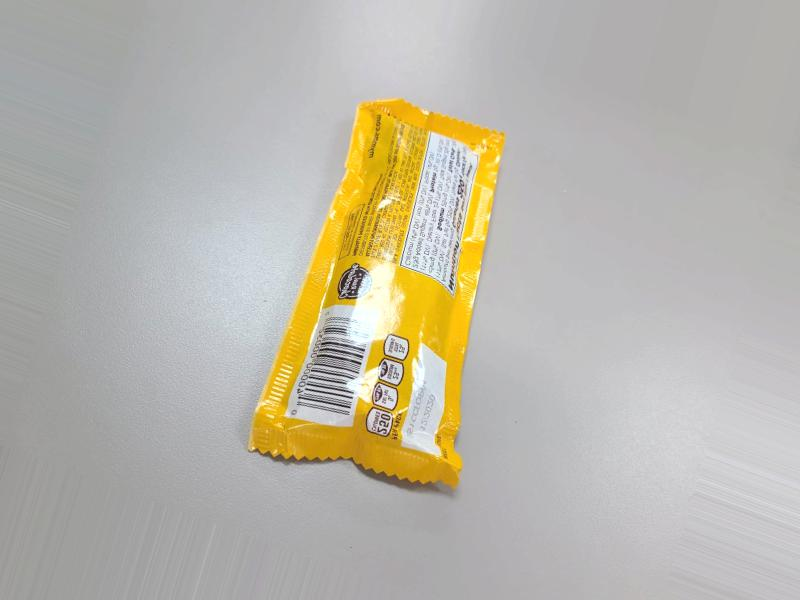m&m: (199, 152, 445, 490)
